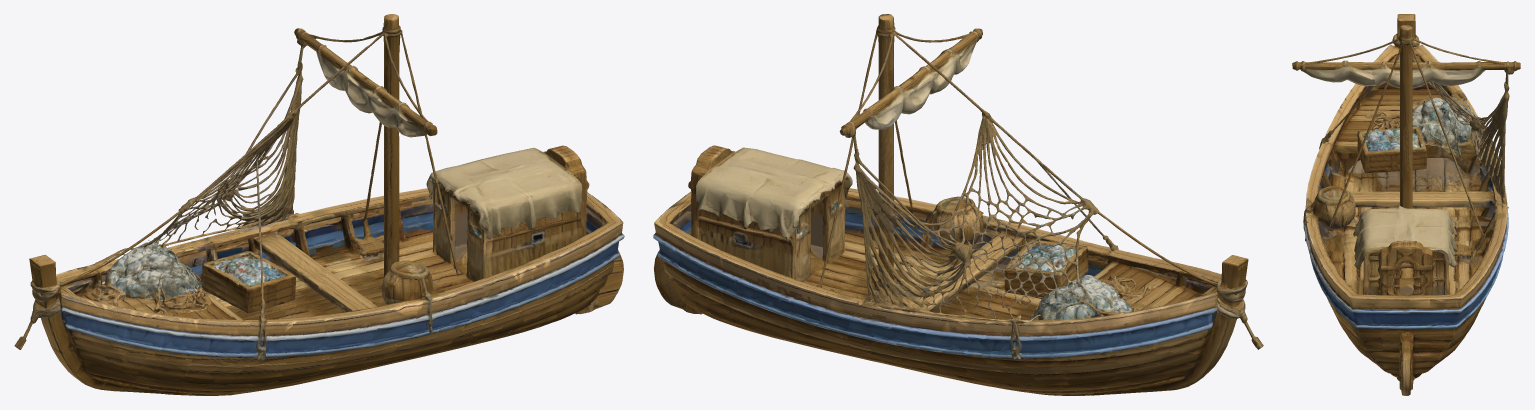
File: fishing_boat__fishing-boat-nets.glb
3 renders of one model, left to right at view 1: azimuth 30°, elevation 25°; view 2: azimuth 150°, elevation 25°; view 3: azimuth 270°, elevation 25°, orthographic. The views are drawn at different scales.
Bounding box in the file's own units: 1.9 × 1.02 × 0.7442.
Materials: 1 (1 with a texture image).
